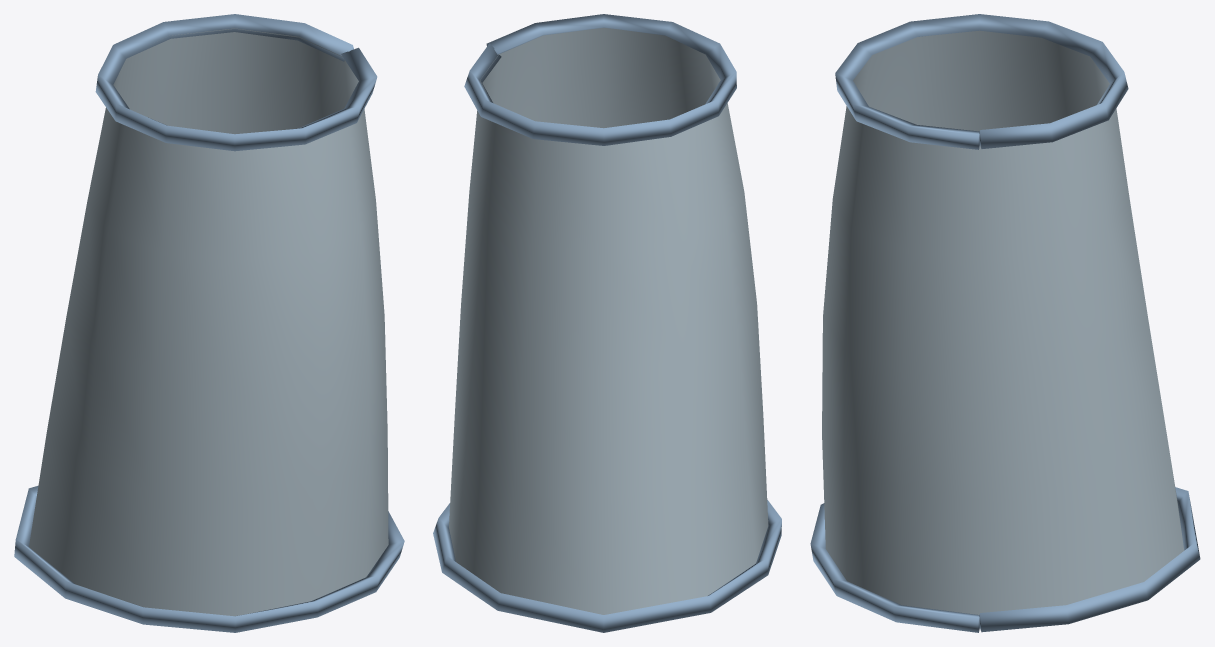
The model's file is platinum_armor_cuisse.R.glb.
3 renders of one model, left to right at view 1: azimuth 30°, elevation 25°; view 2: azimuth 150°, elevation 25°; view 3: azimuth 270°, elevation 25°, orthographic. The views are drawn at different scales.
Parts seen in each view (by area): view 1: platinum_armor_cuisse.R; view 2: platinum_armor_cuisse.R; view 3: platinum_armor_cuisse.R.
Boxes of the visible parts, x1=… form: platinum_armor_cuisse.R: x1=14, y1=14, x2=404, y2=632; platinum_armor_cuisse.R: x1=433, y1=14, x2=781, y2=632; platinum_armor_cuisse.R: x1=810, y1=14, x2=1200, y2=632.
Bounding box in the file's own units: 0.2669 × 0.3856 × 0.2783.
